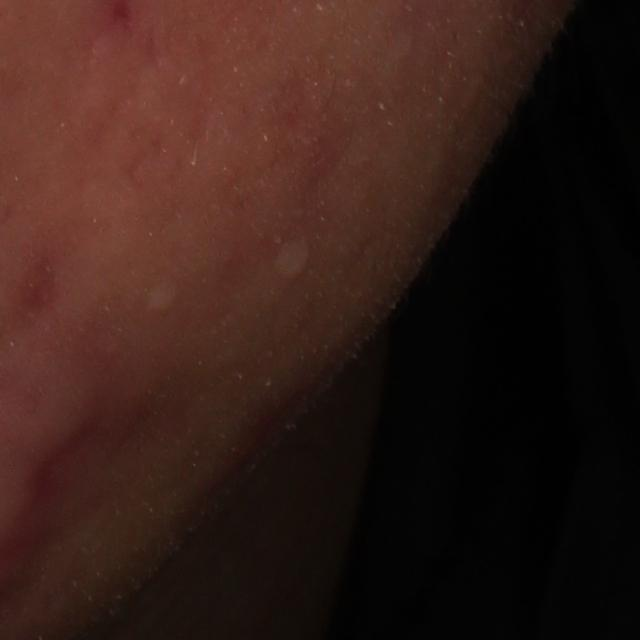other: (268, 232, 317, 287), (138, 273, 184, 318)
